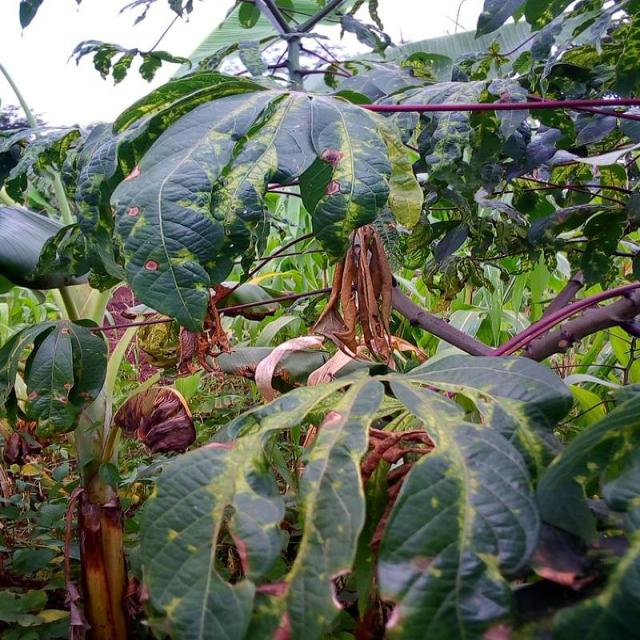cassava leaf: (106, 84, 398, 332), (374, 419, 541, 638), (138, 435, 286, 638)
